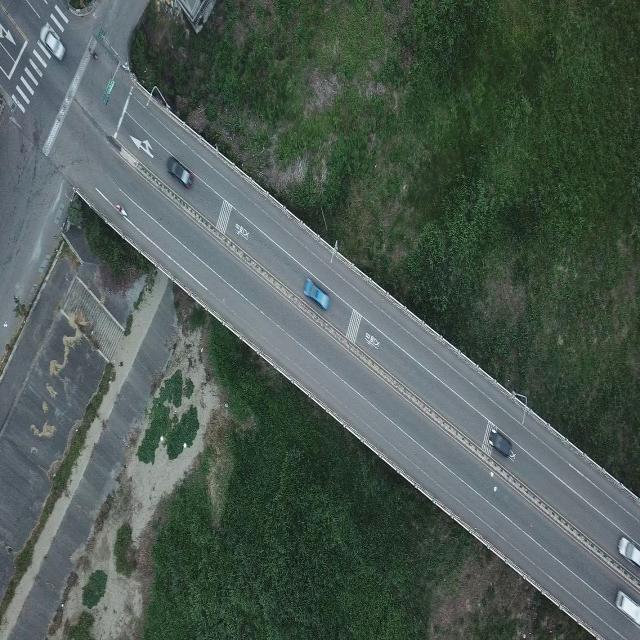bike: (115, 202, 125, 216), (88, 46, 98, 60)
car: (614, 587, 640, 628), (39, 25, 65, 61), (302, 276, 330, 309), (166, 155, 192, 188), (488, 428, 514, 458), (618, 533, 640, 568)
